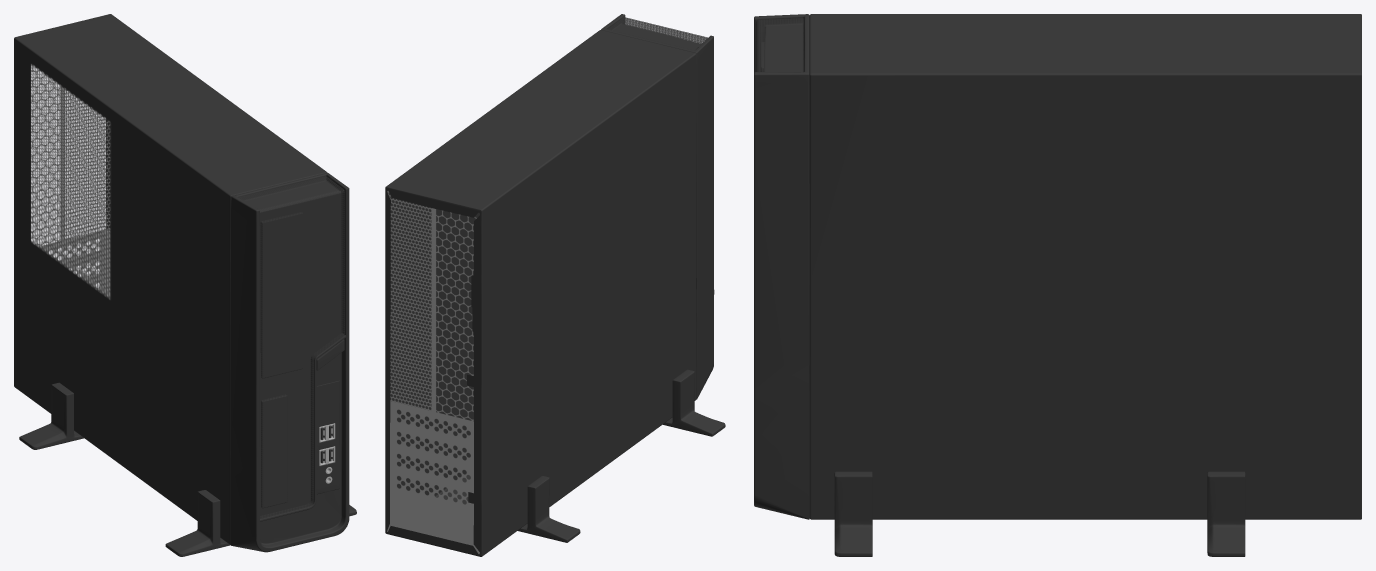
Rendered from cpu.glb.
3 views of the same model, side by side, from view 1: azimuth 30°, elevation 25°; view 2: azimuth 150°, elevation 25°; view 3: azimuth 270°, elevation 25° (orthographic). The views are drawn at different scales.
Visible parts, largest first — view 1: Plastic_geo; view 2: Plastic_geo; view 3: Plastic_geo.
Boxes of the visible parts, <box> form: Plastic_geo: <box>14,14,356,556</box>; Plastic_geo: <box>385,14,725,556</box>; Plastic_geo: <box>754,14,1361,556</box>.
Size of the model in its own units: 0.0695 by 0.1339 by 0.161.
1 material, 1 textured.
